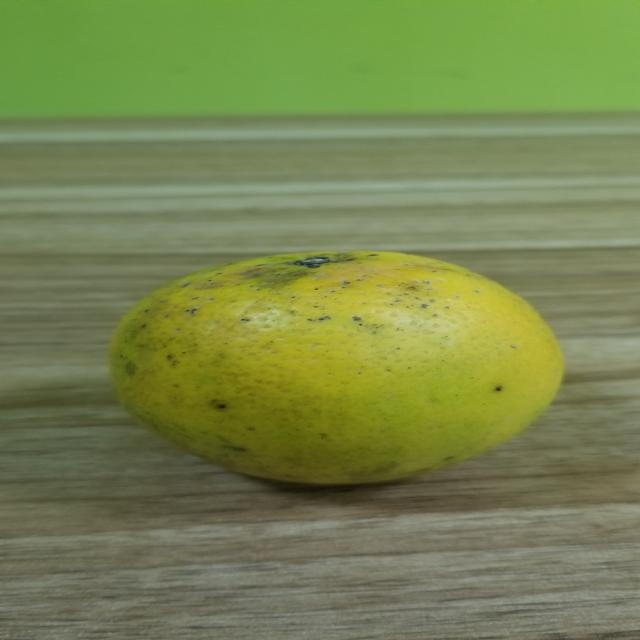agrume: (85, 239, 565, 485)
